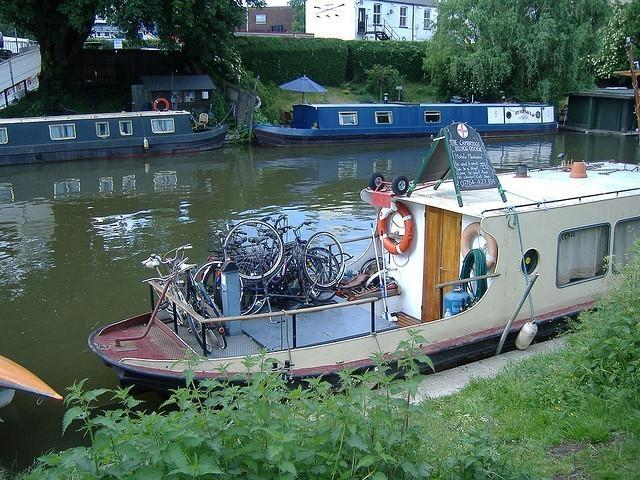bicycle: (222, 217, 354, 301), (140, 244, 227, 348), (142, 256, 212, 352), (192, 256, 245, 308)
